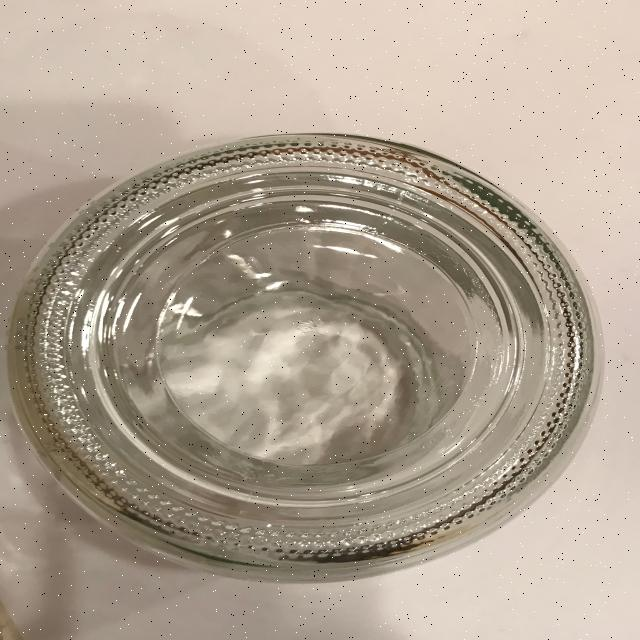glass: (6, 132, 604, 584)
